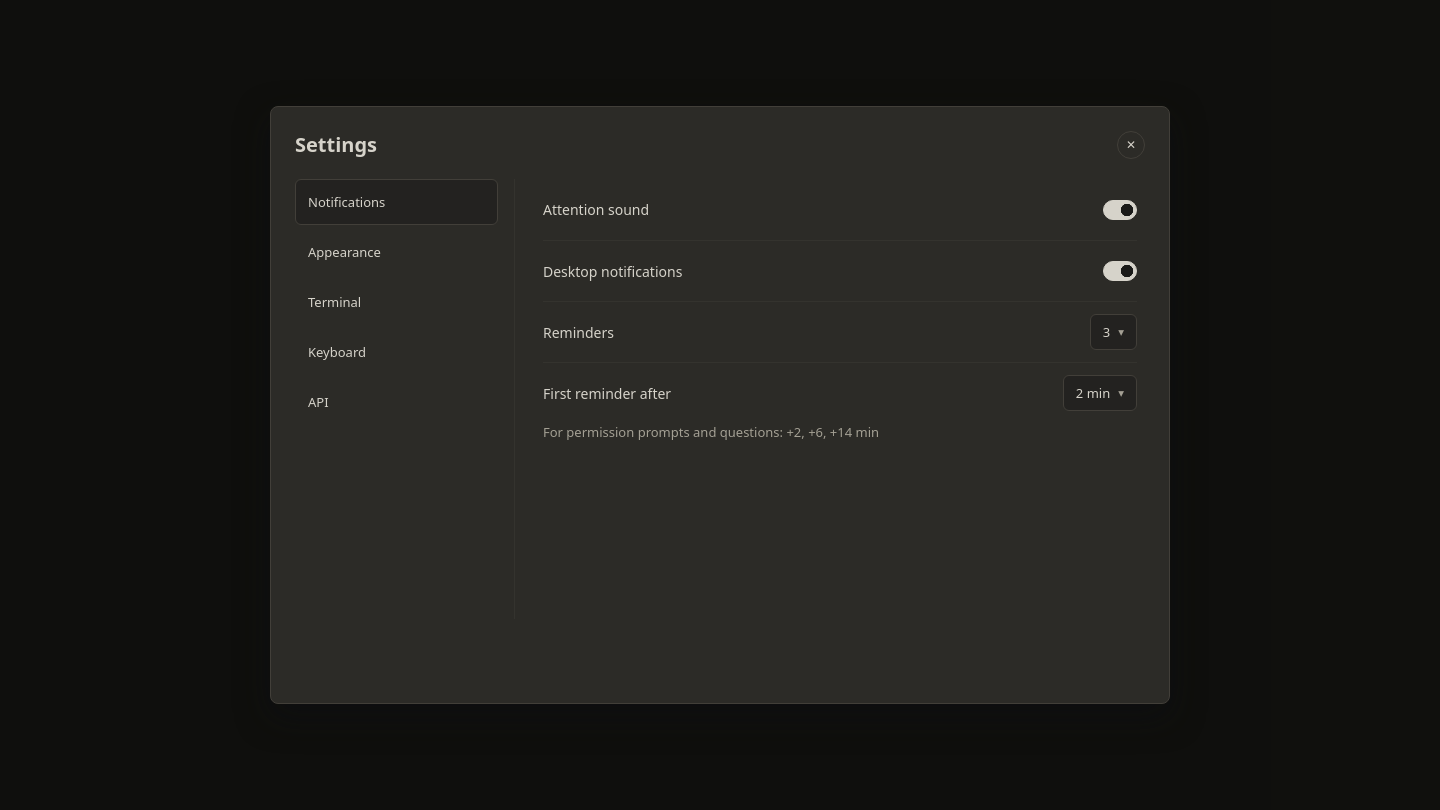
Test: SettingsPanel — the local API block › turning it on patches apiEnabled and reveals the token, Copy, Regenerate and the docs URL
What coordinates should you click on to do the following:
click the button "API"
I would click on:
 (396, 402)
Its box is [296,380,497,424].
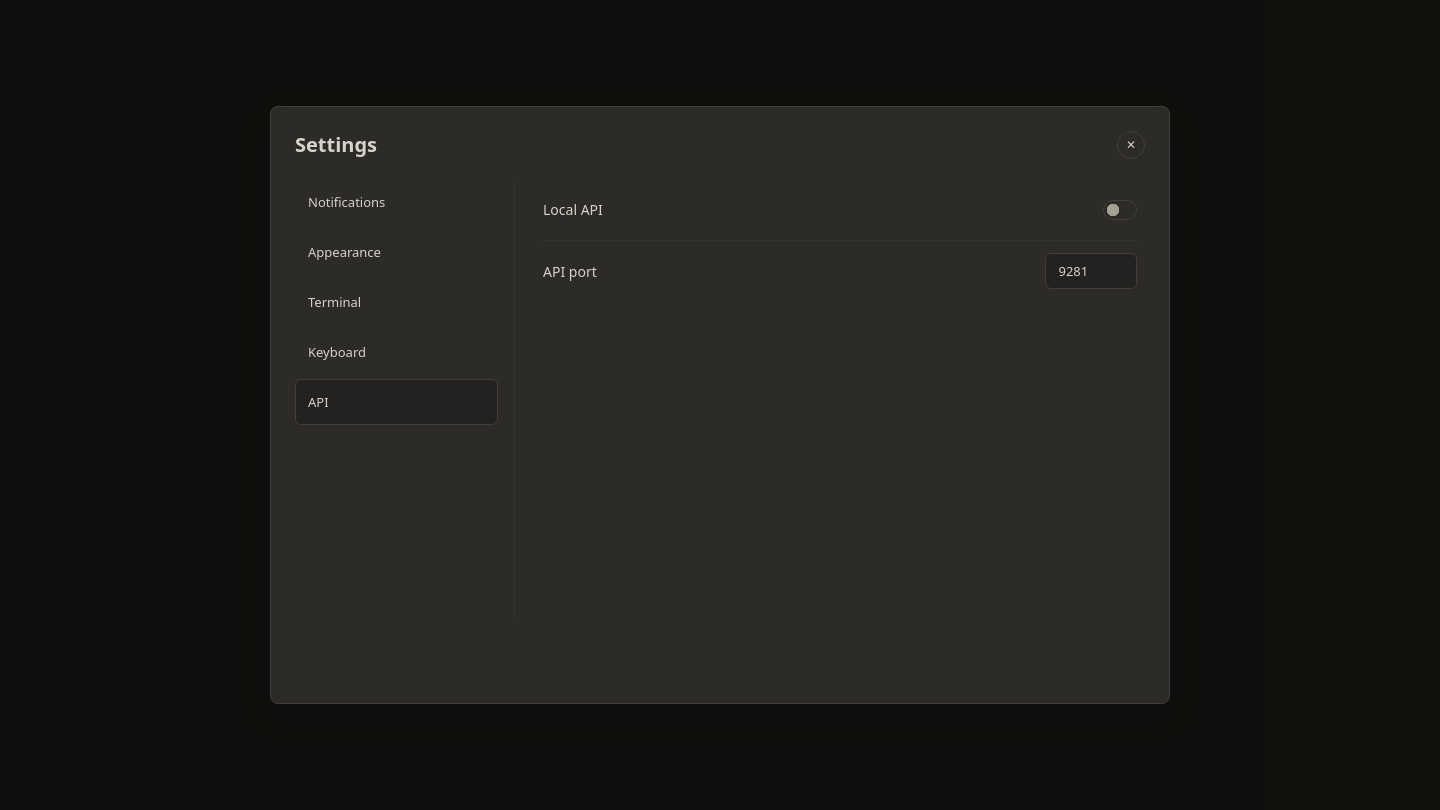
What coordinates should you click on to do the following:
click the switch with test id "settings-api-enabled"
I would click on:
 (1120, 210)
Its box is [1103,200,1137,220].
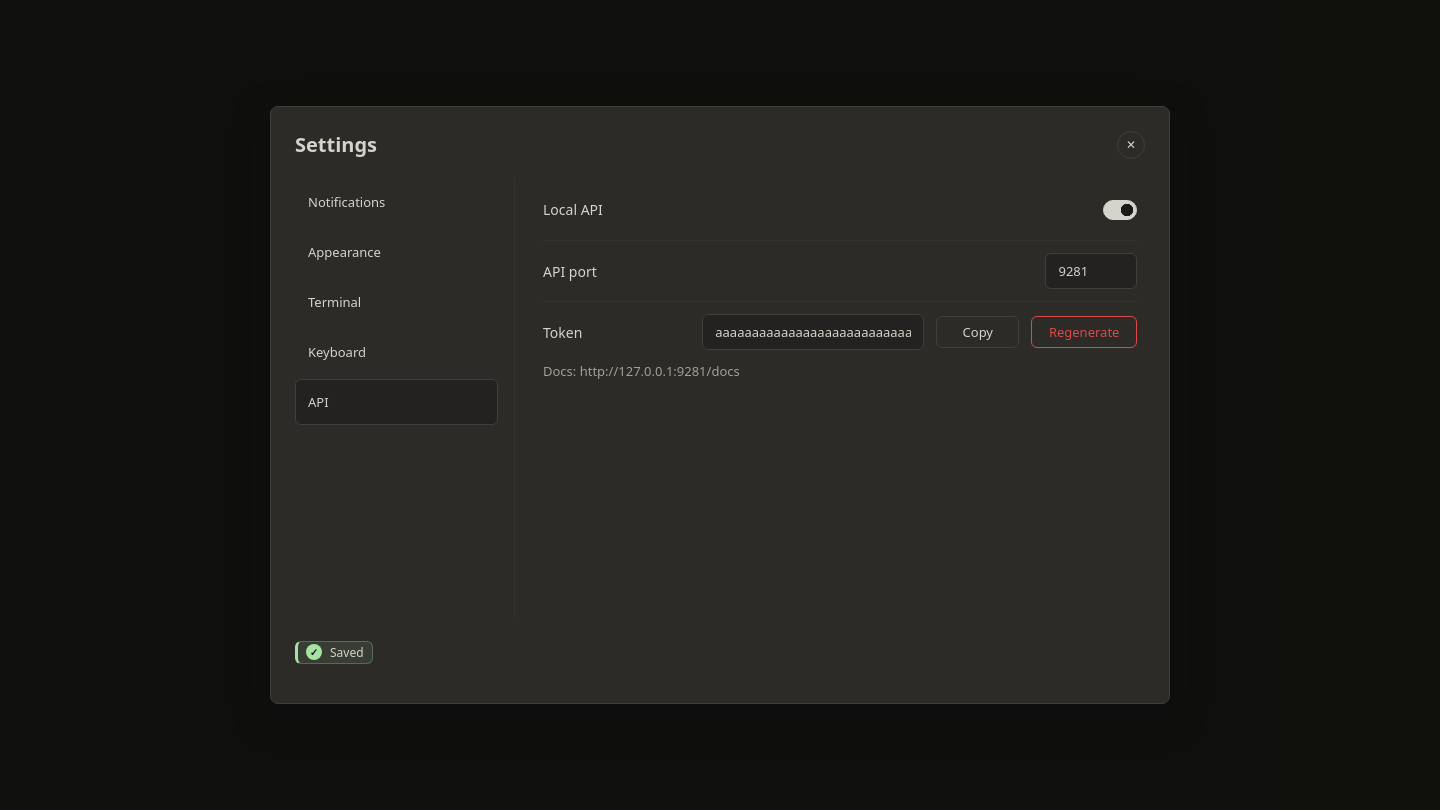
Now the button with test id "settings-api-copy" reads "Copy", box [936,316,1019,348]
Now the button with test id "settings-api-regenerate" reads "Regenerate", box [1031,316,1137,348]
Now the text with test id "settings-api-docs-url" reads "http://127.0.0.1:9281/docs", box [580,362,740,380]
